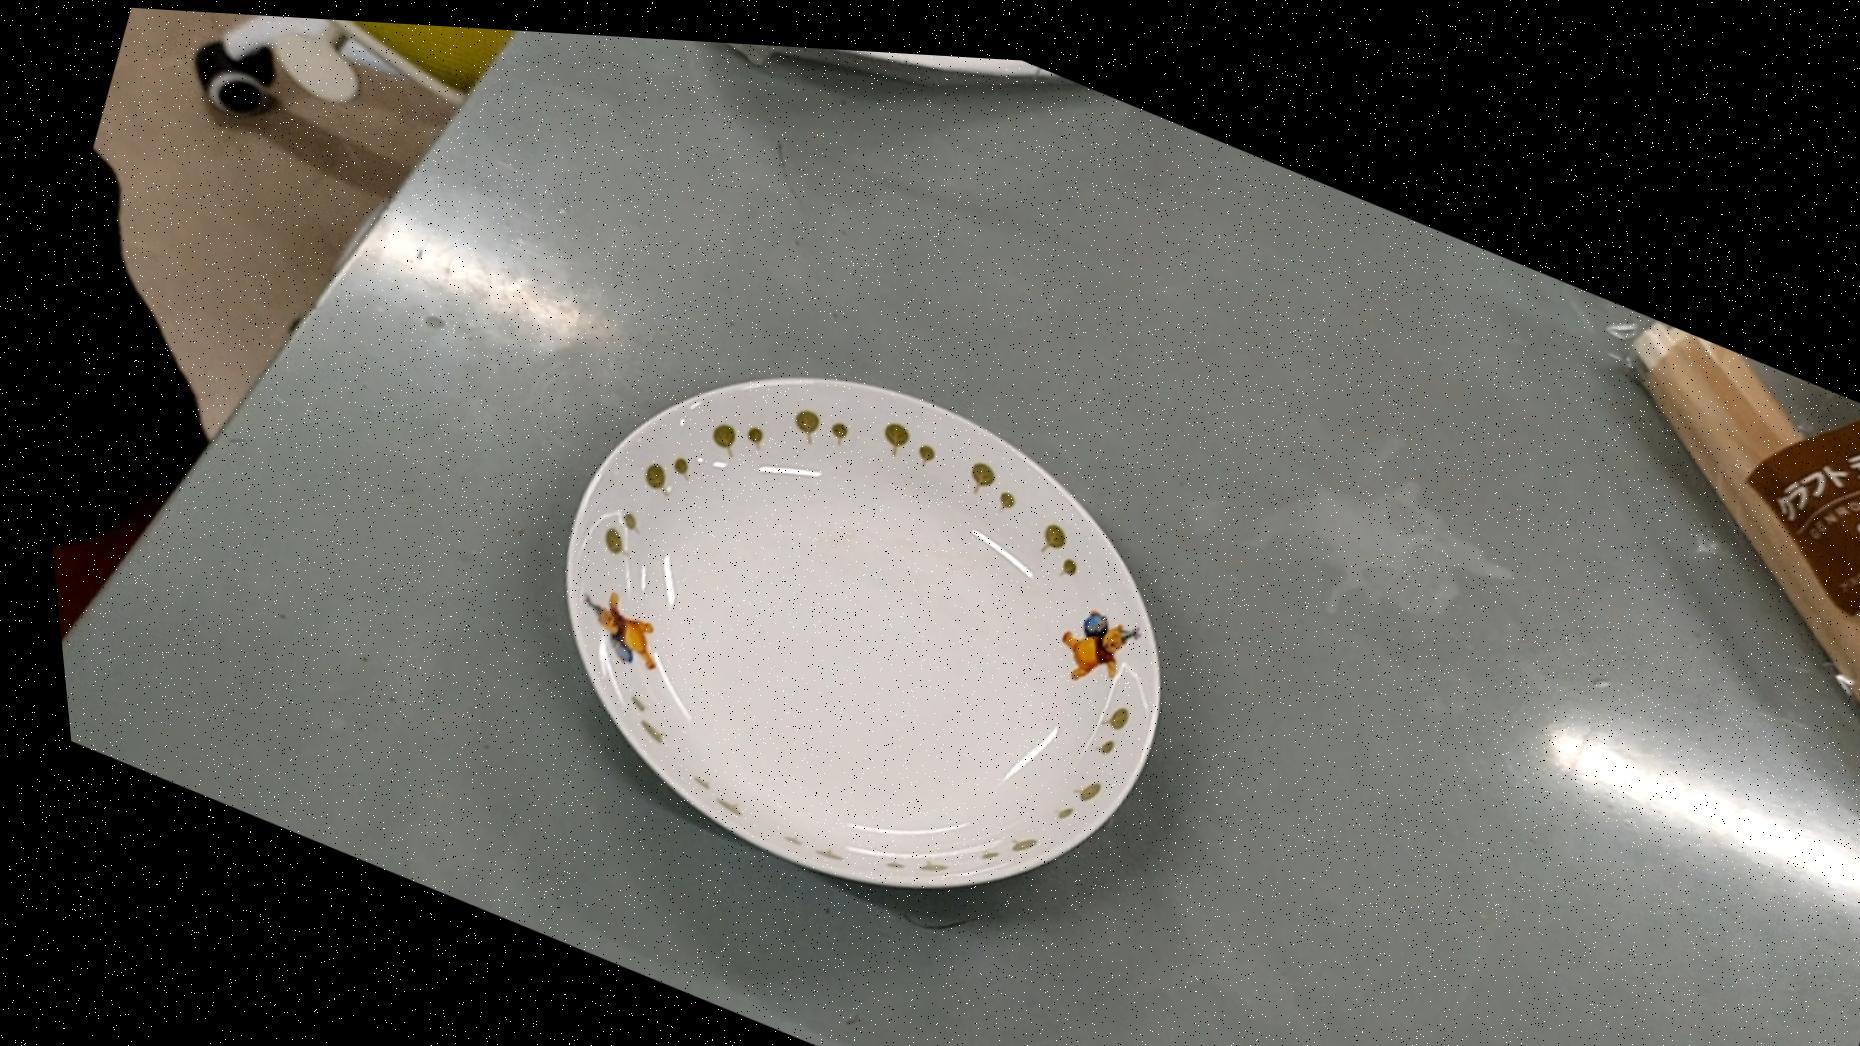plate: (459, 267, 1237, 978)
